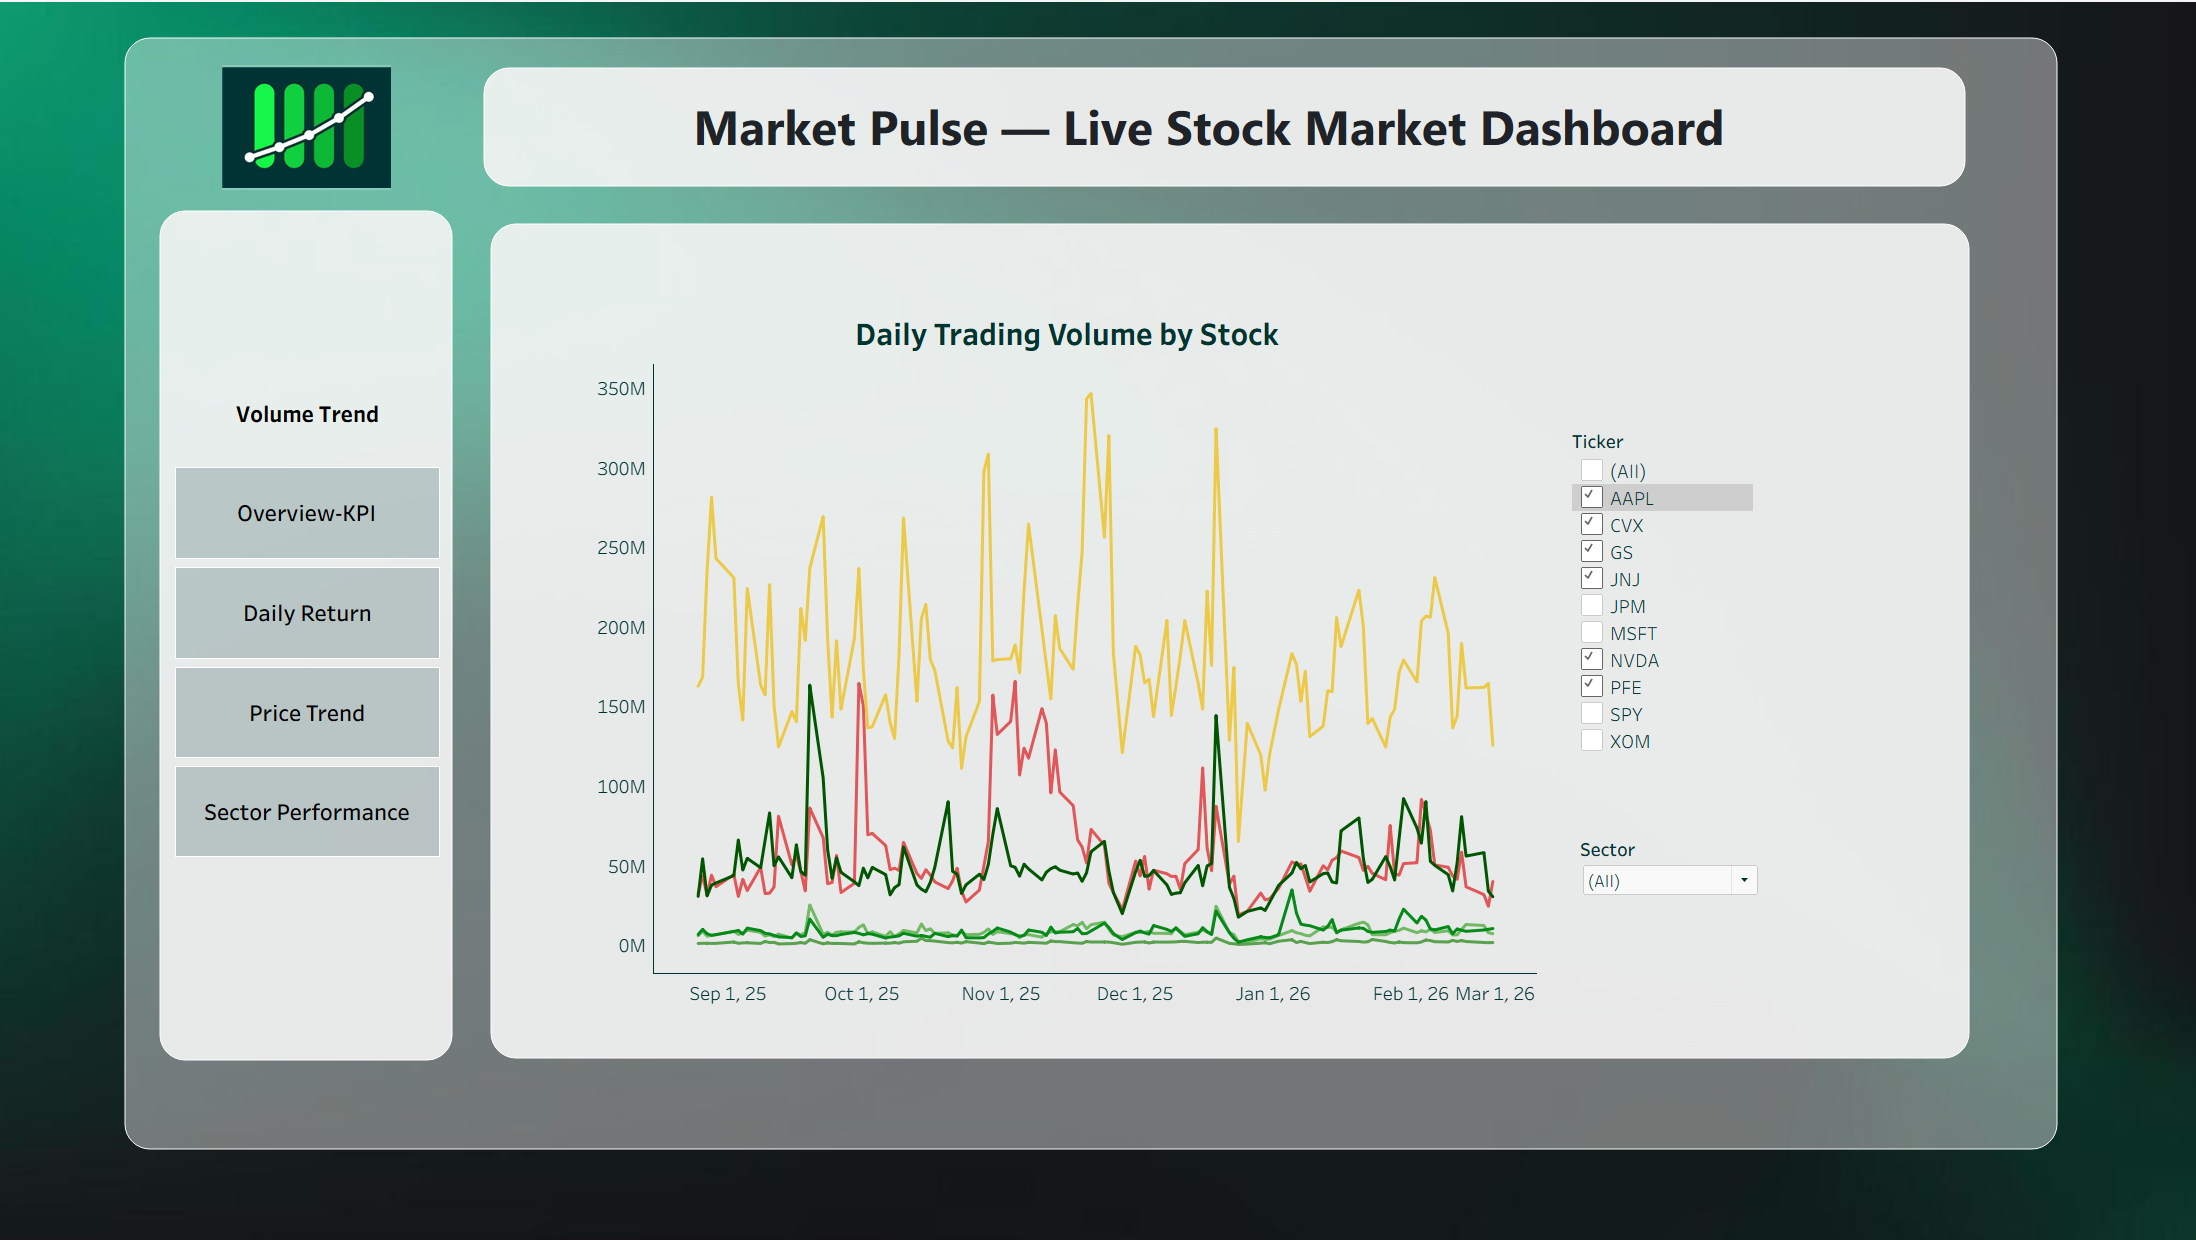

Layout of this report page (visuals, bound fields, positions):
{"tool":"tableau","page":{"name":"Volume Trend Dashboard ","canvas":[1000,1000],"units":"permille","ordinal":4},"visuals":[{"type":"image","param":"C:/Users/samor/OneDrive/Desktop/4067d5a5f7cf7e6f15b997b1403af699.jpg","box":[0,0,861.2,863.4]},{"type":"worksheet","title":"OTHER-D","mark":"Automatic","box":[15,18.2,820.5,827]},{"type":"image","param":"C:/Users/samor/AppData/Local/Temp/TableauTemp/0qbzxmv0kf742318mn2140u93hgg/Sheet","box":[87.5,56.1,69,89.3]},{"type":"text","box":[209.1,71.9,531.4,55.3]},{"type":"worksheet","title":"Volume Trend","mark":"Area","rows":["Volume"],"cols":["Date"],"box":[235.6,221.2,367.4,466]},{"type":"text","box":[69,258.3,107,67.1]},{"type":"filter","title":"Volume Trend","param":"[federated.1v5bl0h08547lg1gbtx6f1lob0uy].[none:Ticker:nk]","box":[616.3,301.7,70.7,259.9]},{"type":"dashboard-object","box":[69,325.4,107,67.2]},{"type":"filter","title":"Volume Trend","param":"[federated.1v5bl0h08547lg1gbtx6f1lob0uy].[none:Sector:nk]","box":[682.1,360.2,70.7,153.2]},{"type":"dashboard-object","box":[69,392.6,107,66.3]},{"type":"dashboard-object","box":[69,458.9,107,66.3]},{"type":"dashboard-object","box":[69,525.3,107,66.3]}]}

Visuals, with their boxes on the dashboard's canvas, which has no fixed pixel size, in thousandths of its width and height (x1, y1, x2, y2). These are canvas units, not pixel positions in the 2196x1240 screenshot, which may show the page scaled, cropped or inside an application window:
image: 0/0/861/863
"OTHER-D" worksheet: 15/18/836/845
image: 88/56/156/145
text: 209/72/740/127
"Volume Trend" worksheet (Area marks): 236/221/603/687
text: 69/258/176/325
"Volume Trend" filter: 616/302/687/562
dashboard-object: 69/325/176/393
"Volume Trend" filter: 682/360/753/513
dashboard-object: 69/393/176/459
dashboard-object: 69/459/176/525
dashboard-object: 69/525/176/592
